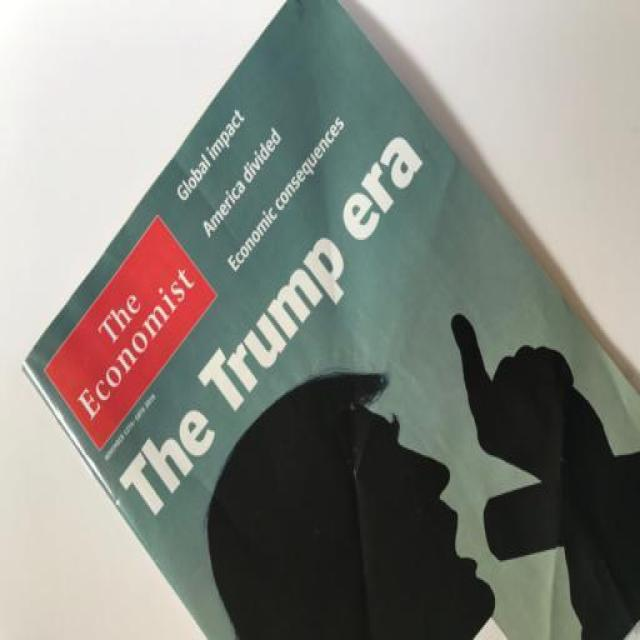inorganic: (20, 0, 640, 640)
